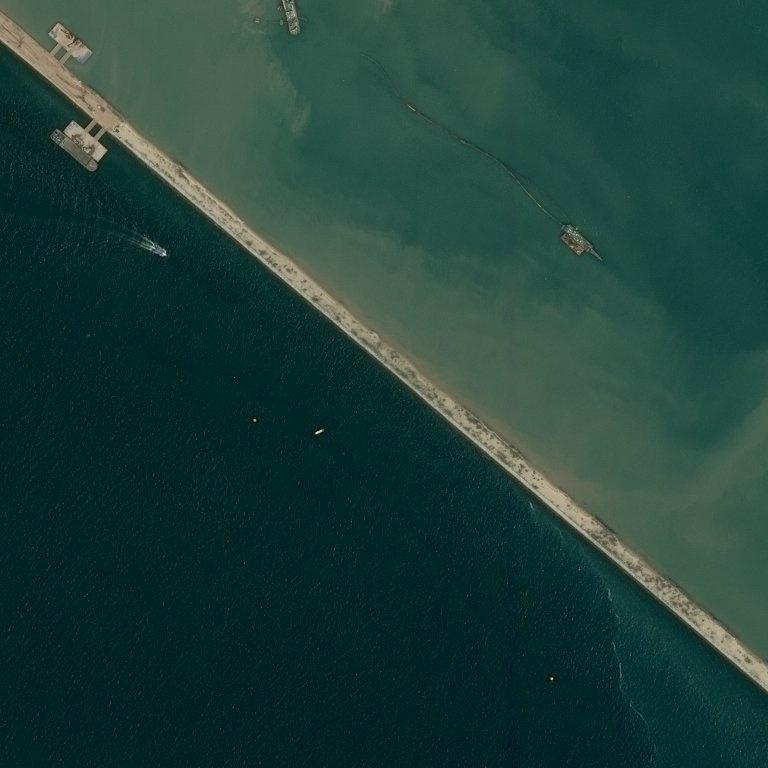ship: (46, 46, 103, 101), (145, 240, 171, 260), (55, 129, 59, 132), (48, 135, 51, 139), (94, 168, 97, 171), (0, 243, 2, 246), (164, 254, 166, 256), (150, 20, 153, 21)
